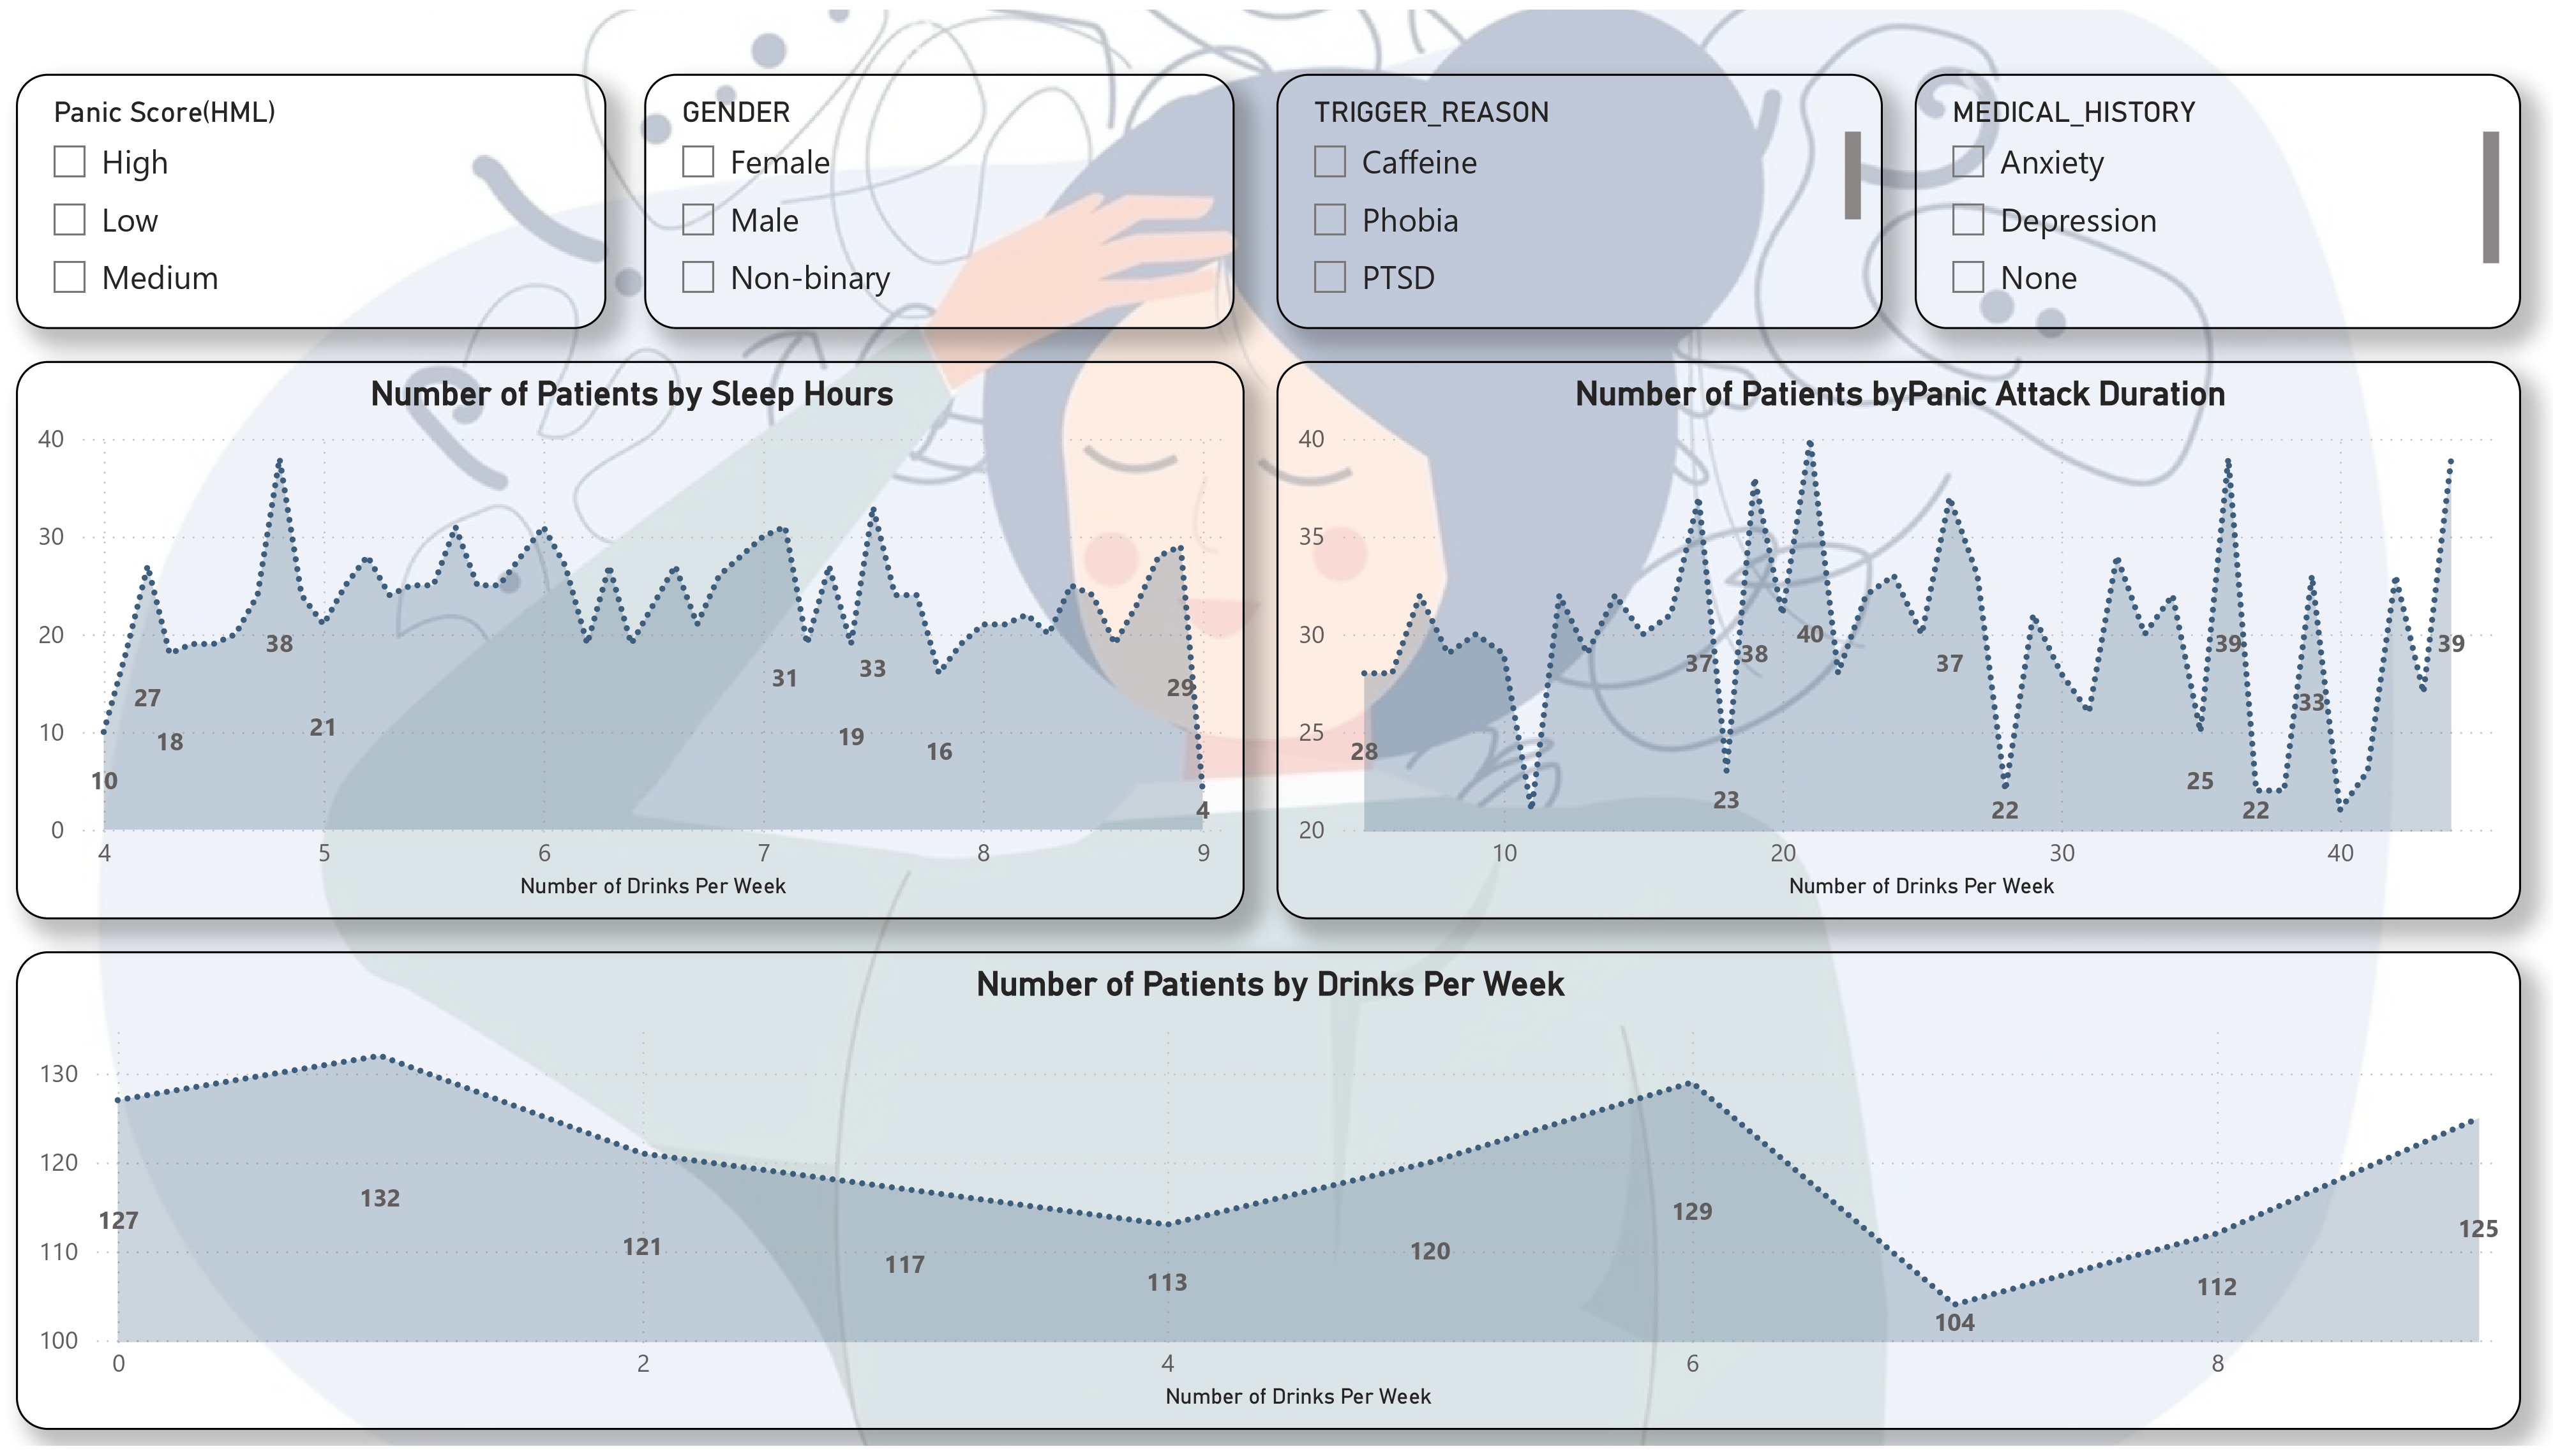

The dashboard page shown, as its layout file describes it:
{"tool":"powerbi","page":{"name":"OTHER REQUIREMENTS","canvas":[1280,720],"ordinal":2},"visuals":[{"type":"slicer","fields":{"Values":["PANIC_ATTACK_DATA.Panic_SCORE_HML"]},"box":[8,32,296,128],"z":0},{"type":"slicer","fields":{"Values":["PANIC_ATTACK_DATA.TRIGGER_REASON"]},"box":[640,32,304,128],"z":1000},{"type":"slicer","fields":{"Values":["PANIC_ATTACK_DATA.GENDER"]},"box":[322.7,32,296,128],"z":2000},{"type":"slicer","fields":{"Values":["PANIC_ATTACK_DATA.MEDICAL_HISTORY"]},"box":[960,32,304,128],"z":3000},{"type":"stackedAreaChart","title":"Number of Patients by Drinks Per Week","fields":{"Category":["PANIC_ATTACK_DATA.ALCOHOL_CONSUMPTION"],"Y":["CountNonNull(PANIC_ATTACK_DATA.ID)"]},"box":[8,472,1256,240],"z":4000},{"type":"stackedAreaChart","title":"Number of Patients by Sleep Hours","fields":{"Category":["PANIC_ATTACK_DATA.SLEEP_HOURS"],"Y":["CountNonNull(PANIC_ATTACK_DATA.ID)"]},"box":[8,176,616,280],"z":5000},{"type":"stackedAreaChart","title":"Number of Patients byPanic Attack Duration","fields":{"Y":["CountNonNull(PANIC_ATTACK_DATA.ID)"],"Category":["PANIC_ATTACK_DATA.DURATION_MINUTES"]},"box":[640,176,624,280],"z":6000}]}

Visuals, with their boxes in screenshot pixels (x1, y1, x2, y2), scaled from the page's 1280x720 canvas onto the 2553x1456 screenshot:
slicer - PANIC_ATTACK_DATA.Panic_SCORE_HML: locate(16, 64, 606, 323)
slicer - PANIC_ATTACK_DATA.TRIGGER_REASON: locate(1276, 64, 1883, 323)
slicer - PANIC_ATTACK_DATA.GENDER: locate(643, 64, 1234, 323)
slicer - PANIC_ATTACK_DATA.MEDICAL_HISTORY: locate(1915, 64, 2521, 323)
"Number of Patients by Drinks Per Week" stackedAreaChart: locate(16, 955, 2521, 1440)
"Number of Patients by Sleep Hours" stackedAreaChart: locate(16, 356, 1245, 922)
"Number of Patients byPanic Attack Duration" stackedAreaChart: locate(1276, 356, 2521, 922)
